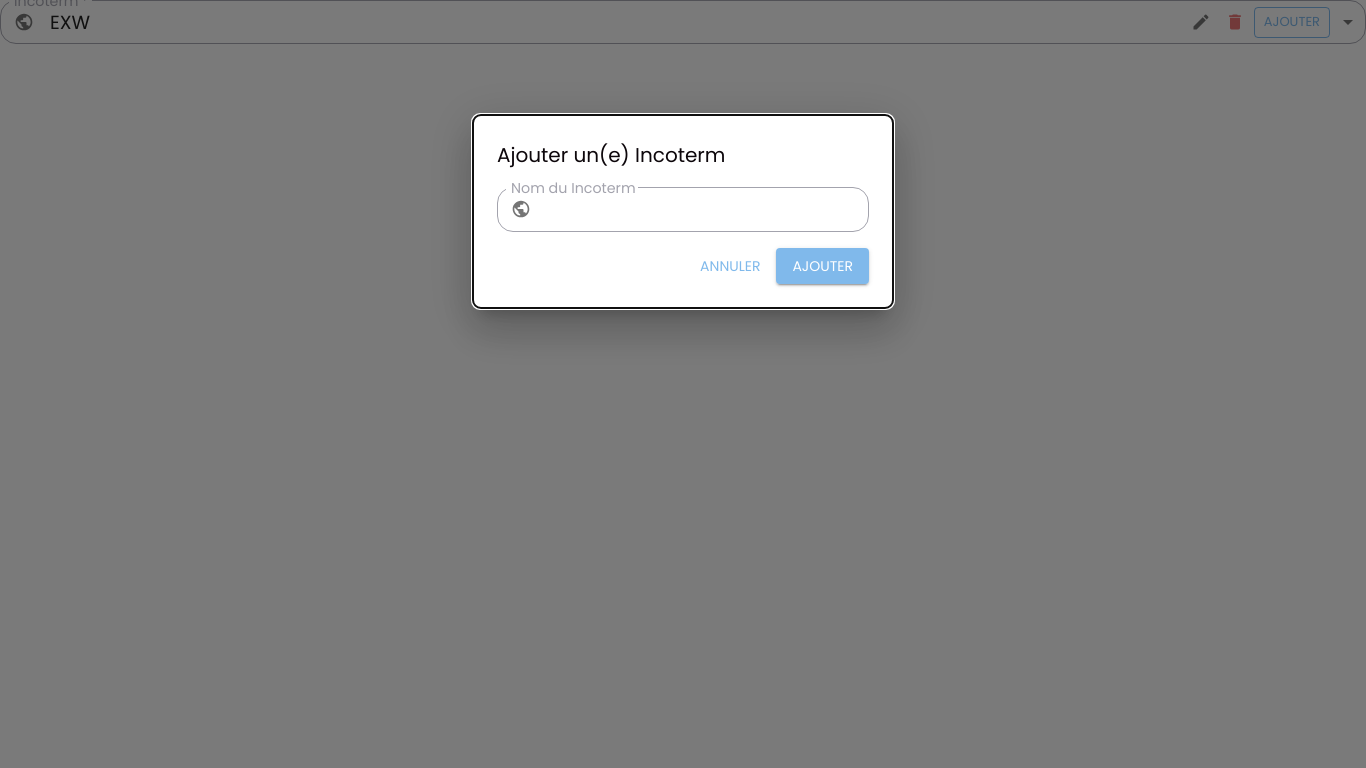
Test: adds, renames and deletes unused incoterm entries in its company
Earlier steps of the test are not shown.
Type "AAA" into the field at (704, 209), box [539,187,869,232]
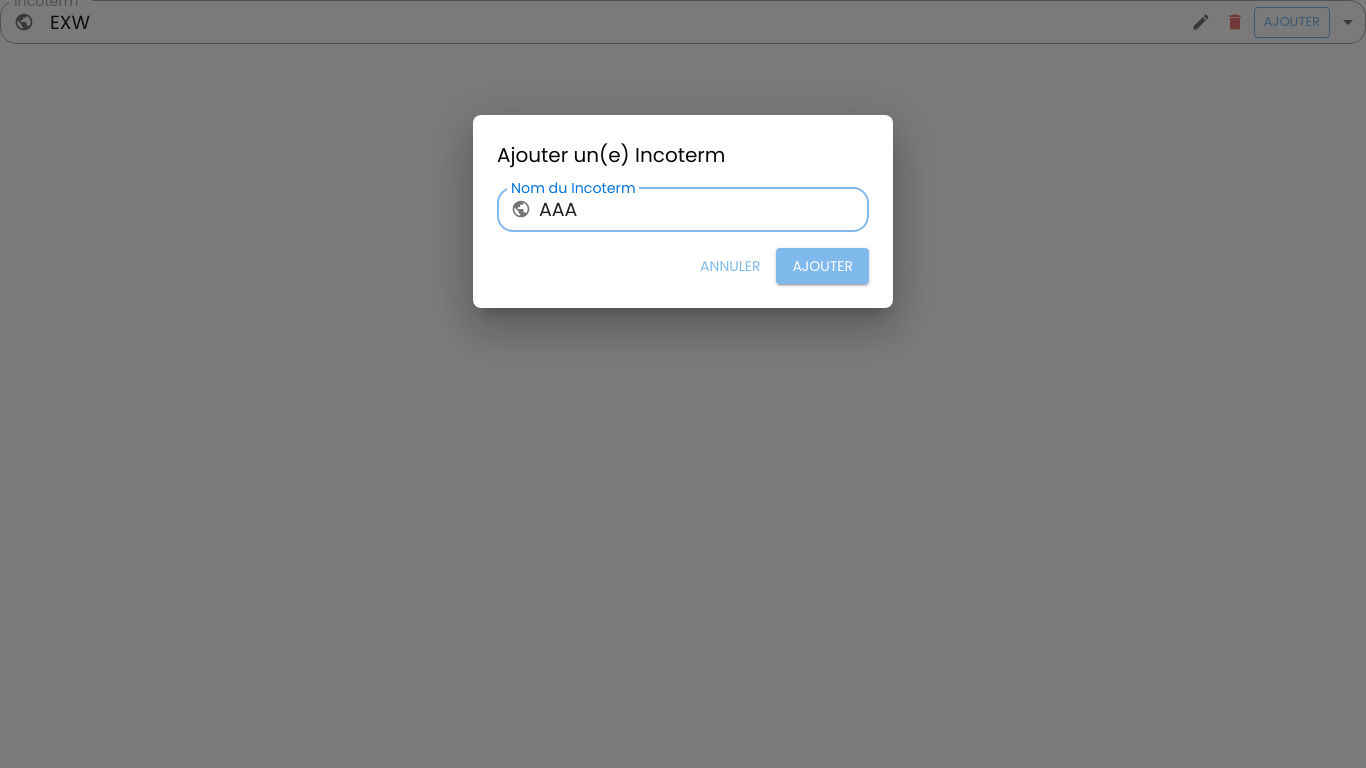
Click the button "Ajouter" at (823, 266), box [776,248,869,284]
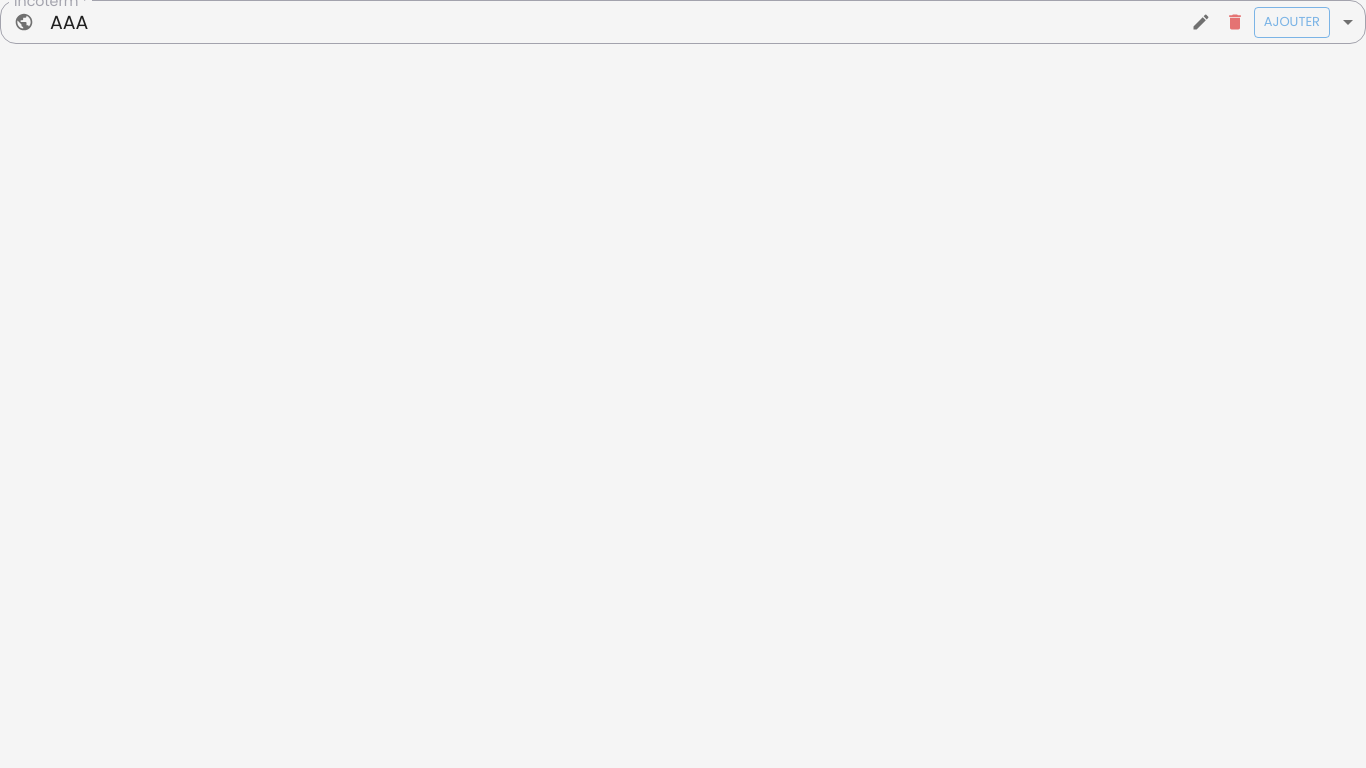
expect the dialog is gone: met
expect the dropdown holds "AAA": met, box [42,6,1148,38]
Click the button titled "Mettre à jour" at (1201, 22), box [1186,7,1216,37]
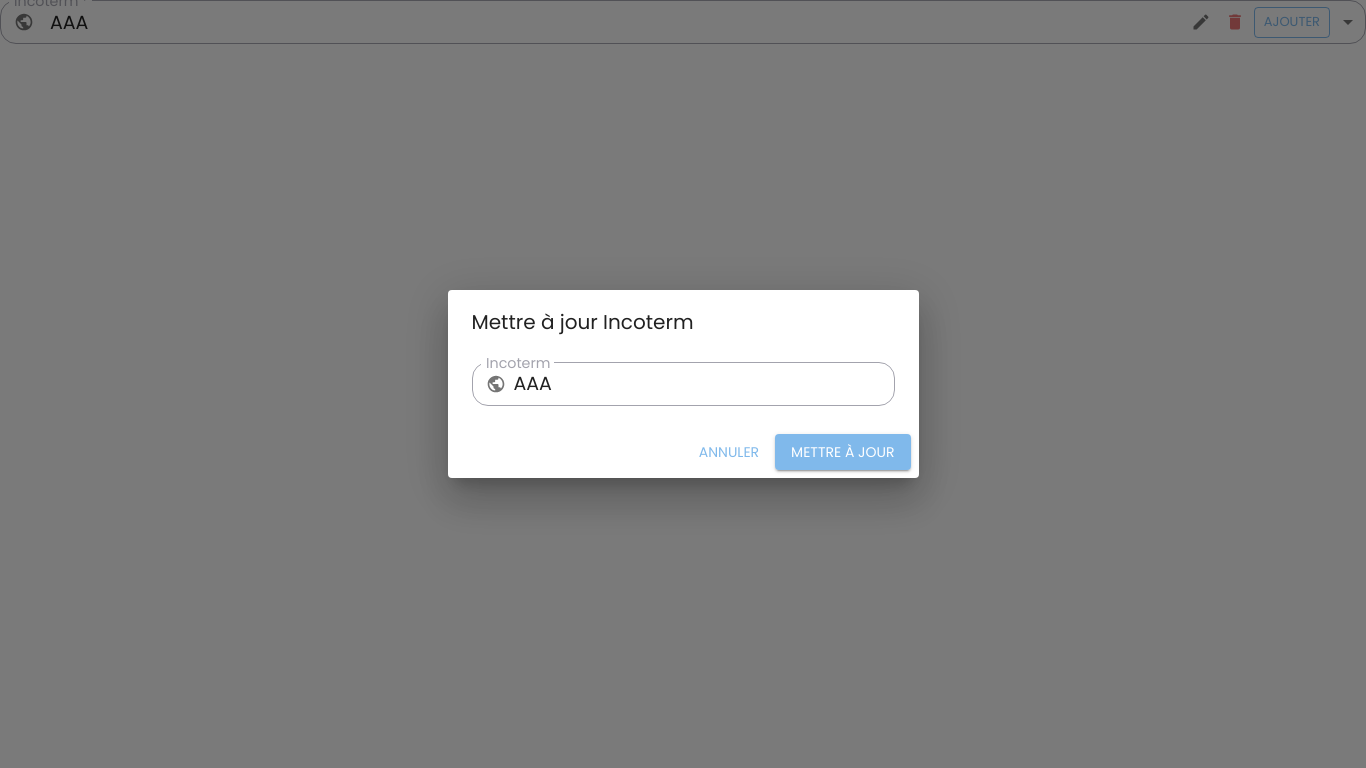
Replace the text in the field with "BBB" at (704, 384), box [514,362,894,406]
Click the button "Mettre à jour" at (843, 452), box [775,434,910,470]
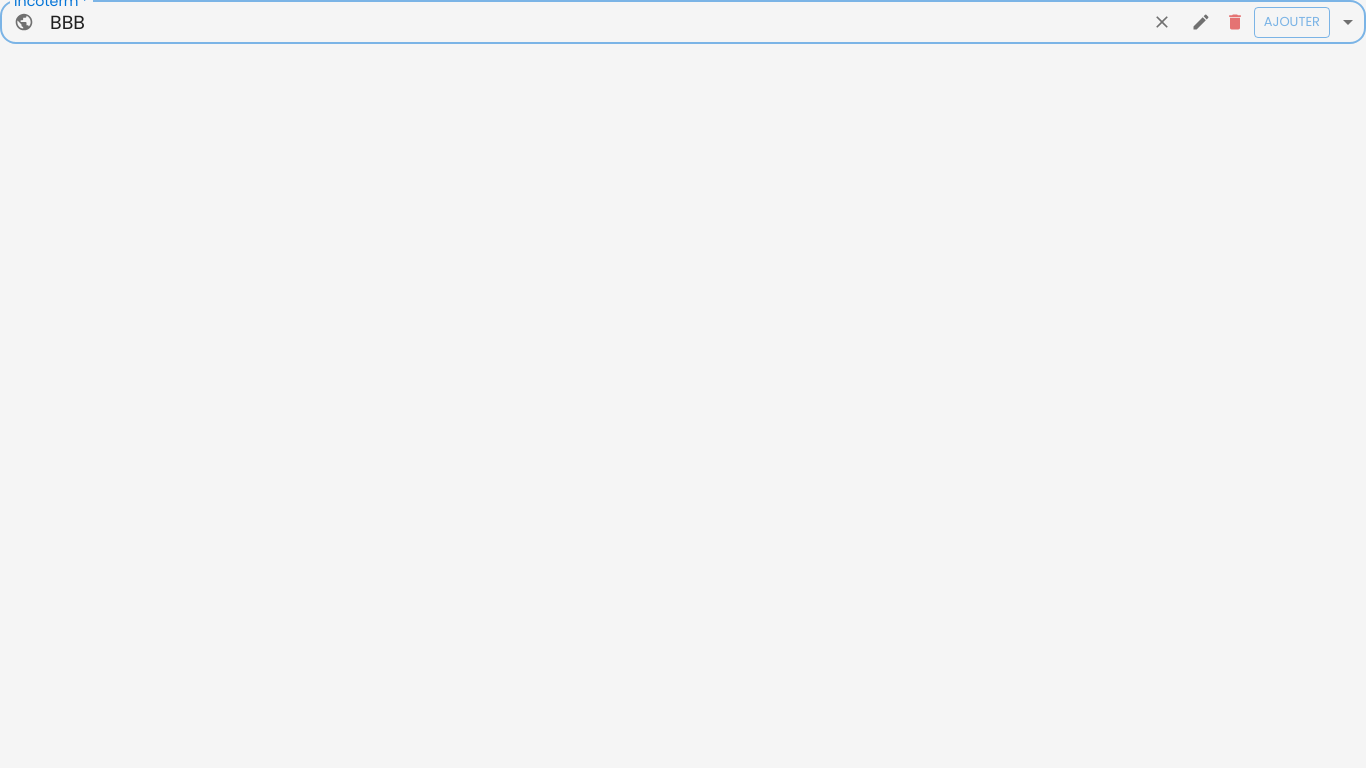
expect the dialog is gone: met
expect the dropdown holds "BBB": met, box [42,6,1148,38]
Click the button titled "Supprimer" at (1235, 22), box [1220,7,1250,37]
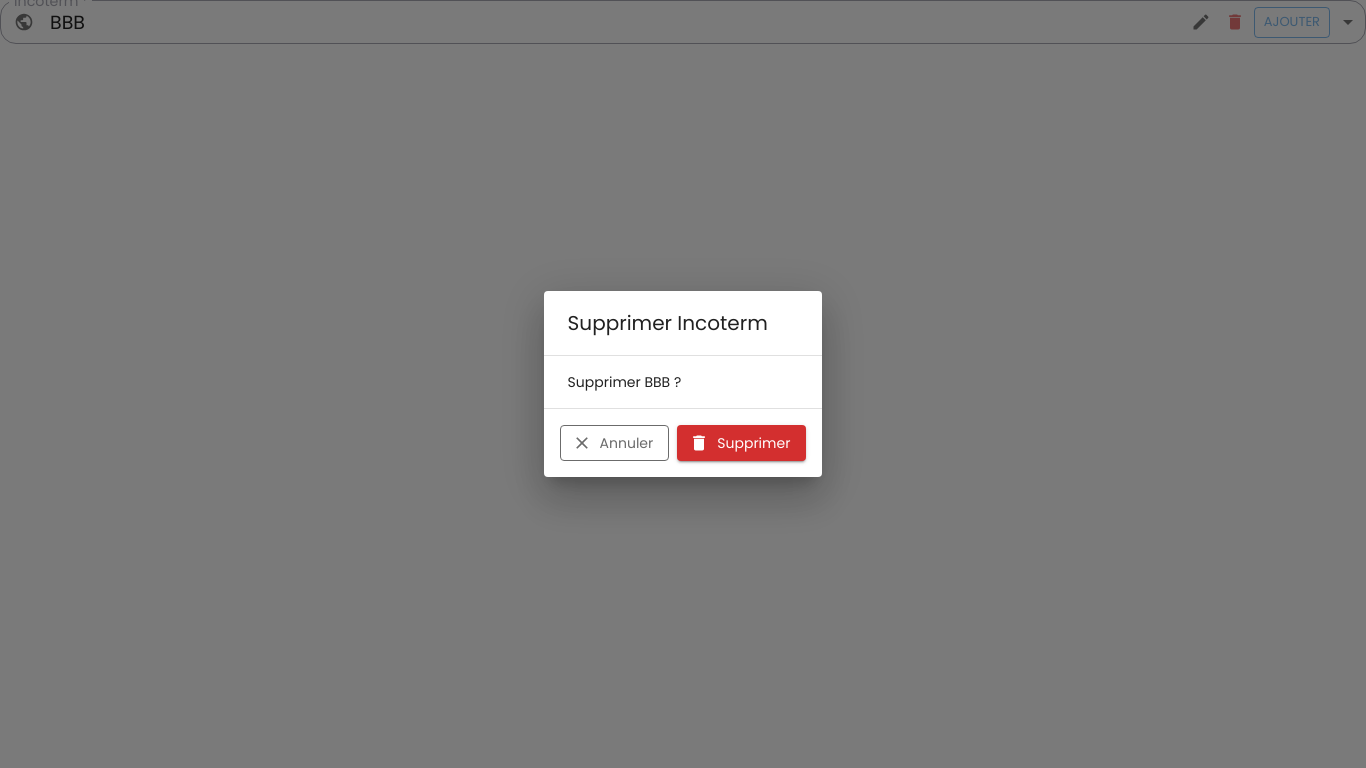
Click the button "Supprimer" at (742, 443), box [677,425,806,461]
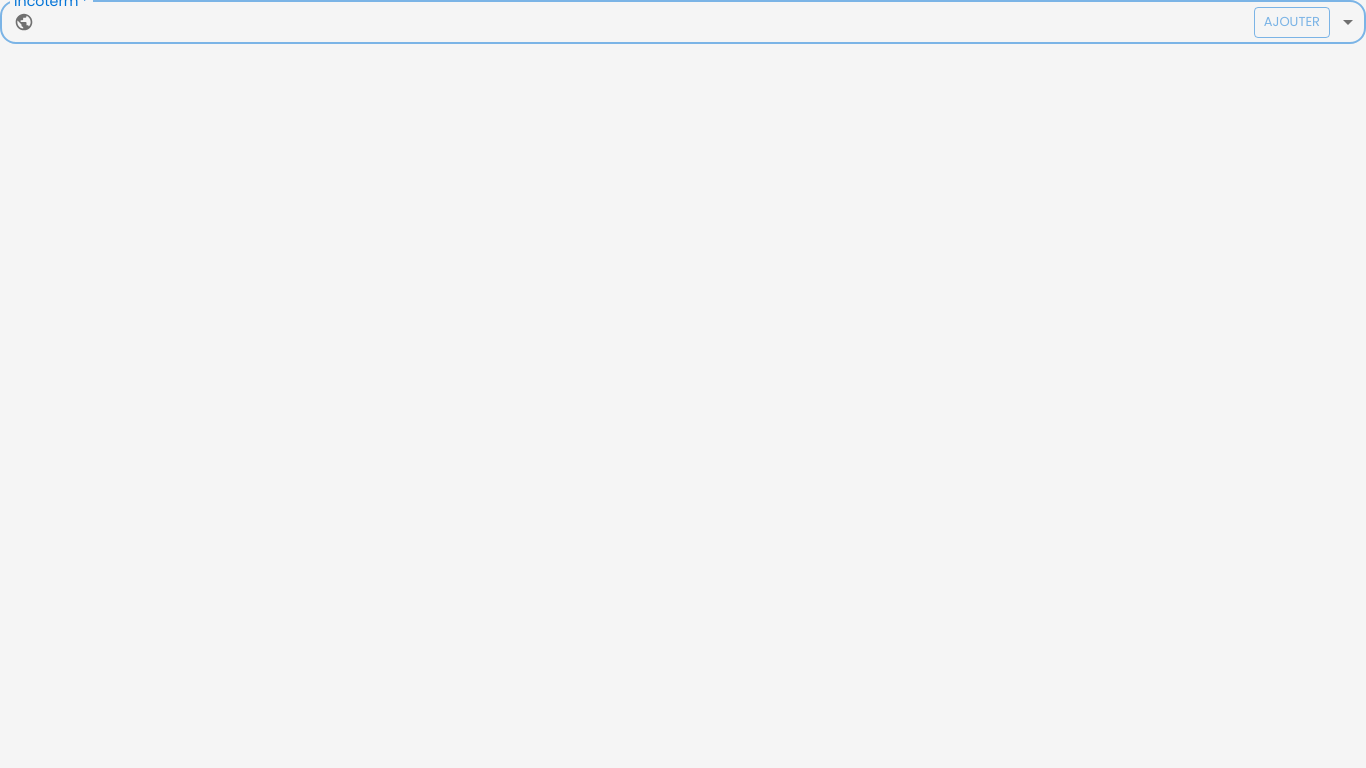
expect the dialog is gone: met
expect the dropdown is empty: met, box [42,6,1246,38]
